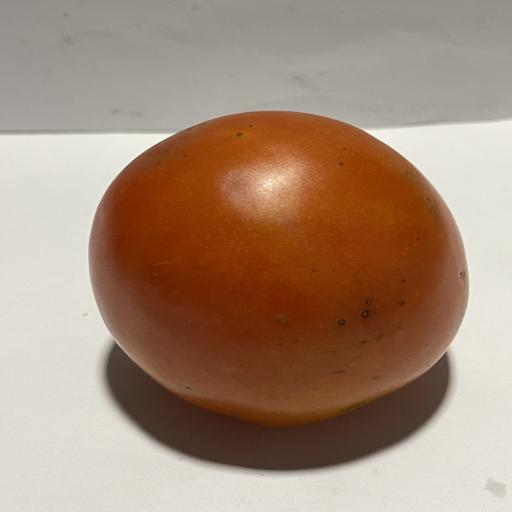unripe: (89, 111, 468, 425)
